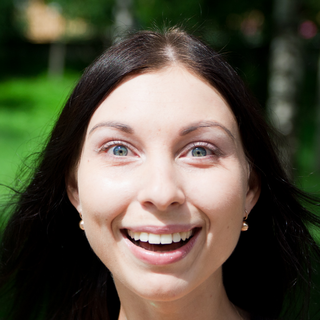eye: (174, 140, 222, 166), (98, 139, 144, 164)
